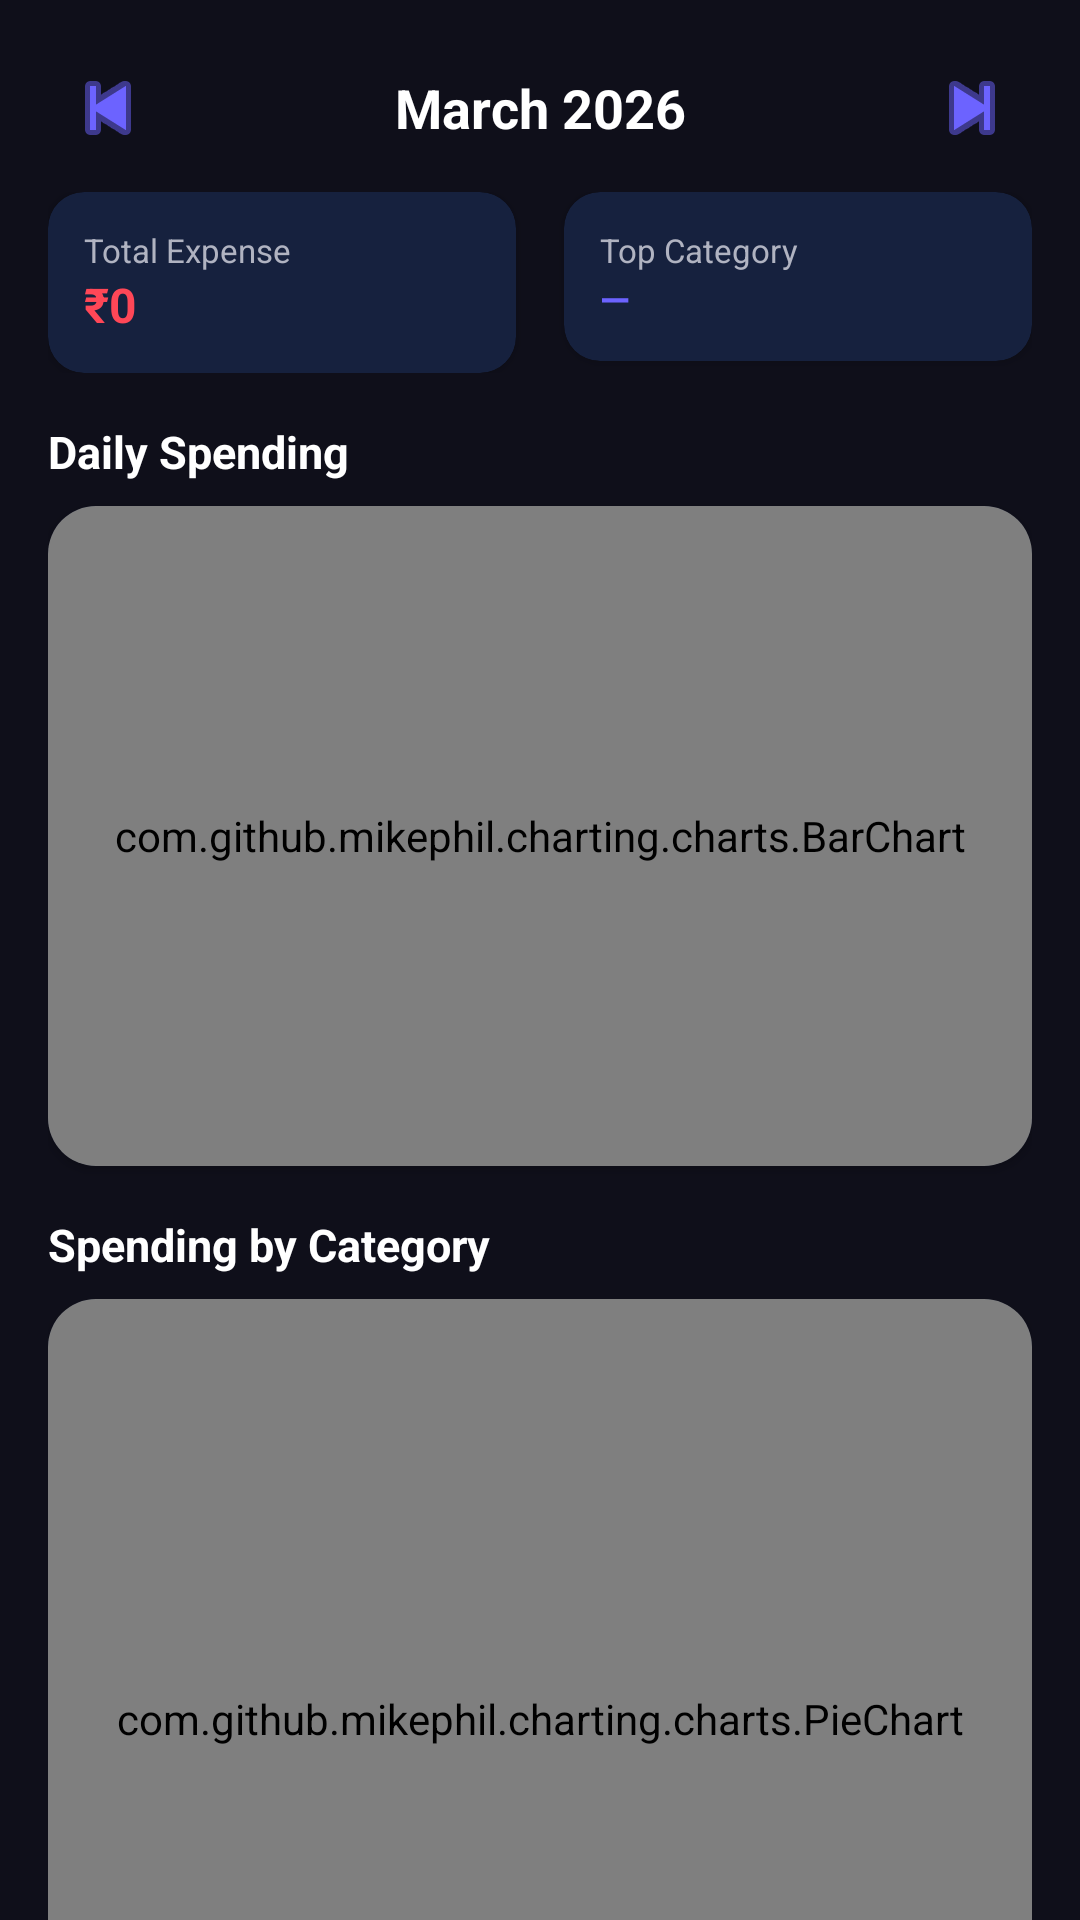

Locate icon controls on the screen. Image size 1080px×1920px, boxes as (x1, y1, x2, y2).
next: (949, 81, 995, 135)
previous: (85, 81, 131, 135)
